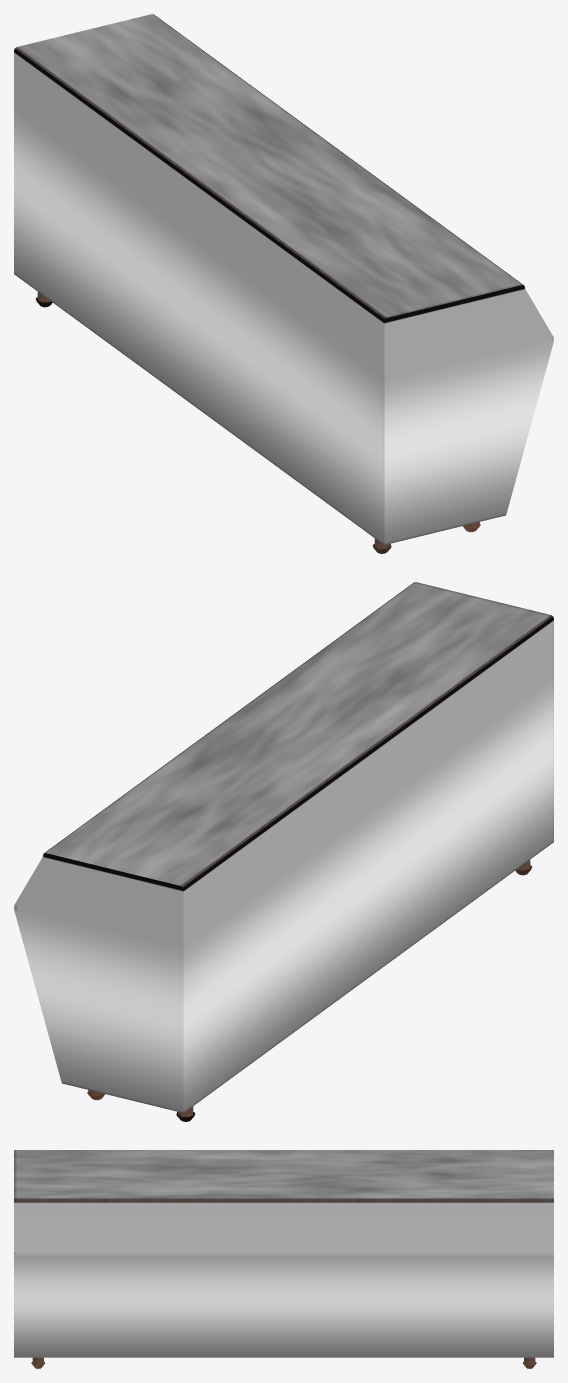
File: LadaSklep.gltf
3 renders of one model, top to bottom at view 1: azimuth 30°, elevation 25°; view 2: azimuth 150°, elevation 25°; view 3: azimuth 270°, elevation 25°, orthographic. The views are drawn at different scales.
Visible parts, largest first — view 1: Cube.004; view 2: Cube.004; view 3: Cube.004.
Part boxes in pixels (x1,y1,x2,y2): Cube.004: (14, 14, 553, 553); Cube.004: (14, 582, 553, 1121); Cube.004: (14, 1150, 553, 1368).
Bounding box in the file's own units: 0.8385 × 1.17 × 3.17.
Materials: 4 (4 with a texture image).
